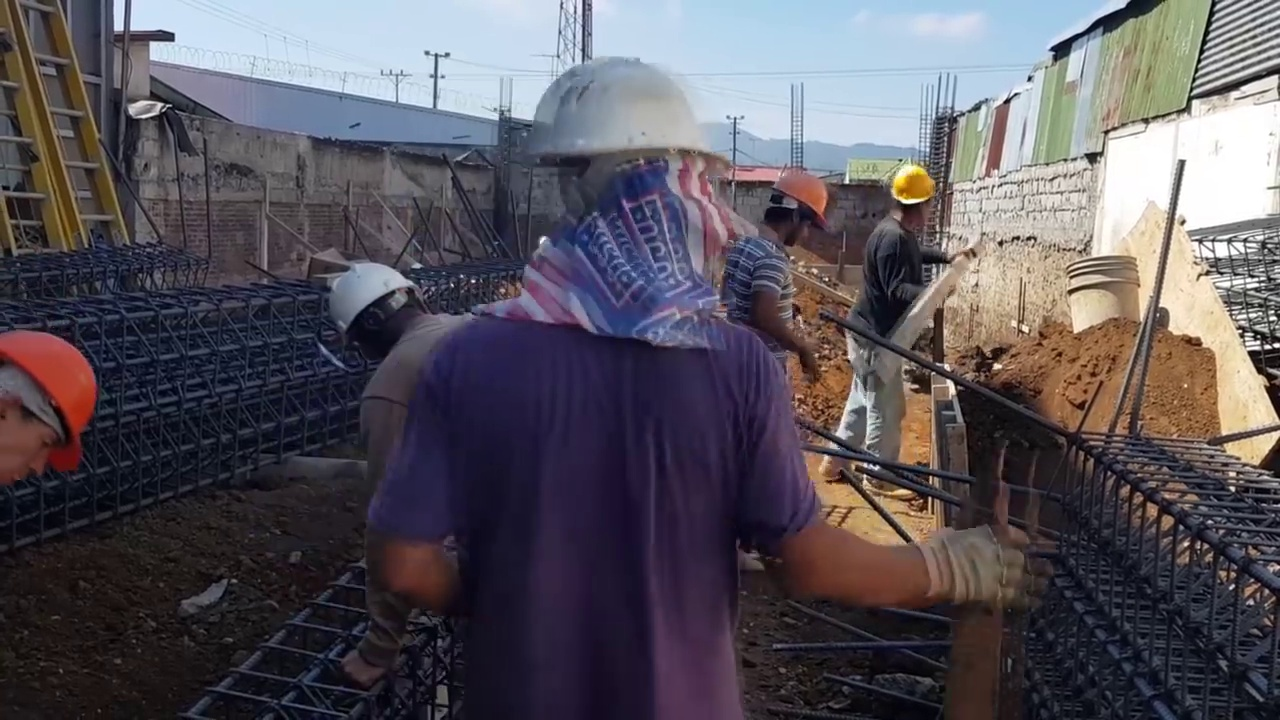helmet: (516, 58, 723, 199), (3, 336, 98, 477), (321, 264, 415, 353), (771, 170, 831, 226), (895, 163, 943, 204)
helmet-on: (512, 50, 741, 348), (322, 261, 435, 363), (758, 166, 829, 249), (883, 160, 944, 231)
person: (375, 41, 1024, 720), (322, 255, 500, 501), (844, 151, 961, 470), (727, 166, 830, 383)
